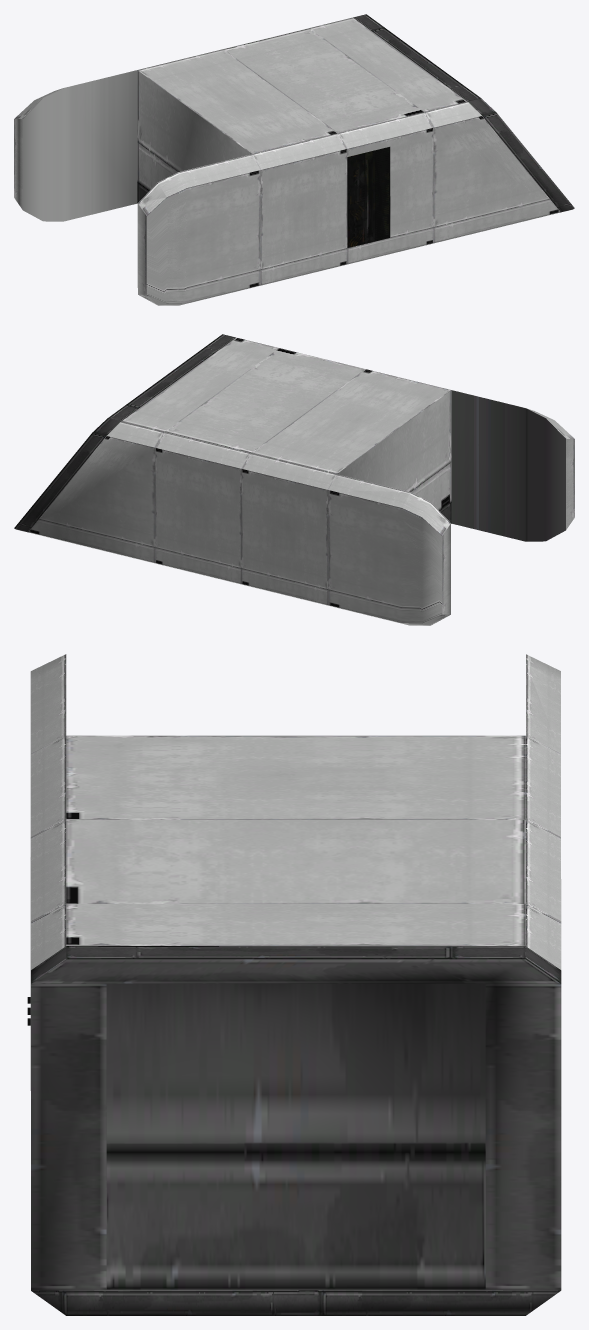
Rendered from DockingArm_04_Body.FBX.
3 renders of one model, top to bottom at view 1: azimuth 30°, elevation 25°; view 2: azimuth 150°, elevation 25°; view 3: azimuth 270°, elevation 25°, orthographic. The views are drawn at different scales.
Visible parts, largest first — view 1: DockingArm_04_Body; view 2: DockingArm_04_Body; view 3: DockingArm_04_Body.
Boxes of the visible parts, box(x1,y1,x2,y2) form: DockingArm_04_Body: box(14, 14, 574, 305); DockingArm_04_Body: box(14, 334, 574, 625); DockingArm_04_Body: box(27, 654, 561, 1315).
Size of the model in its own units: 13.86 by 4.07 by 7.36.
